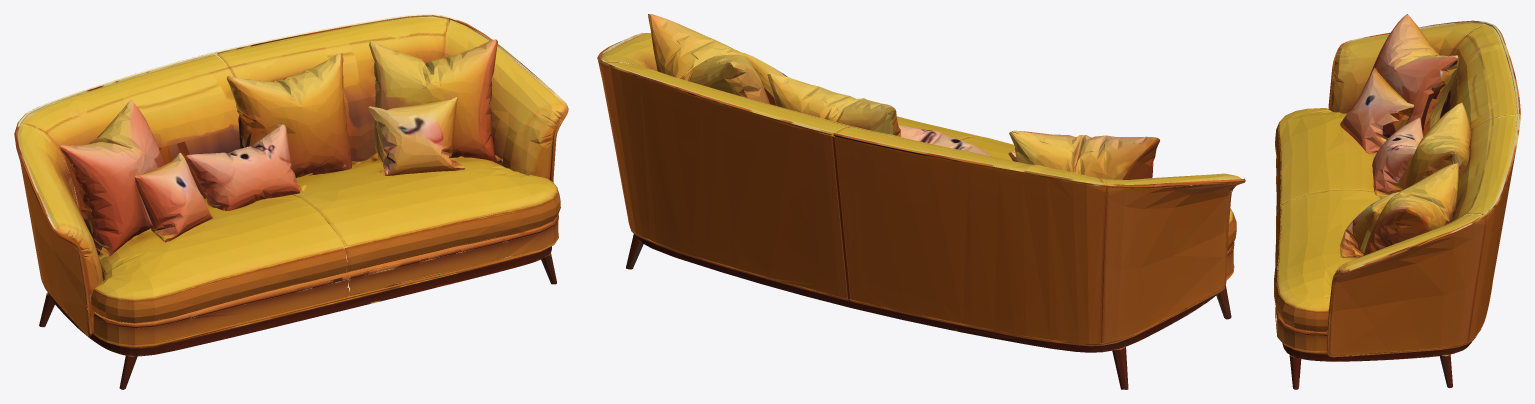
File: edited_mesh.glb
3 renders of one model, left to right at view 1: azimuth 30°, elevation 25°; view 2: azimuth 150°, elevation 25°; view 3: azimuth 270°, elevation 25°, orthographic. The views are drawn at different scales.
Parts seen in each view (by area): view 1: solid_001_wire; view 2: solid_001_wire; view 3: solid_001_wire.
Part boxes in pixels (x1=…): solid_001_wire: x1=14, y1=14, x2=568, y2=389; solid_001_wire: x1=597, y1=14, x2=1245, y2=389; solid_001_wire: x1=1274, y1=14, x2=1520, y2=389.
Bounding box in the file's own units: 2 × 0.7466 × 0.909.
1 material, 1 textured.
